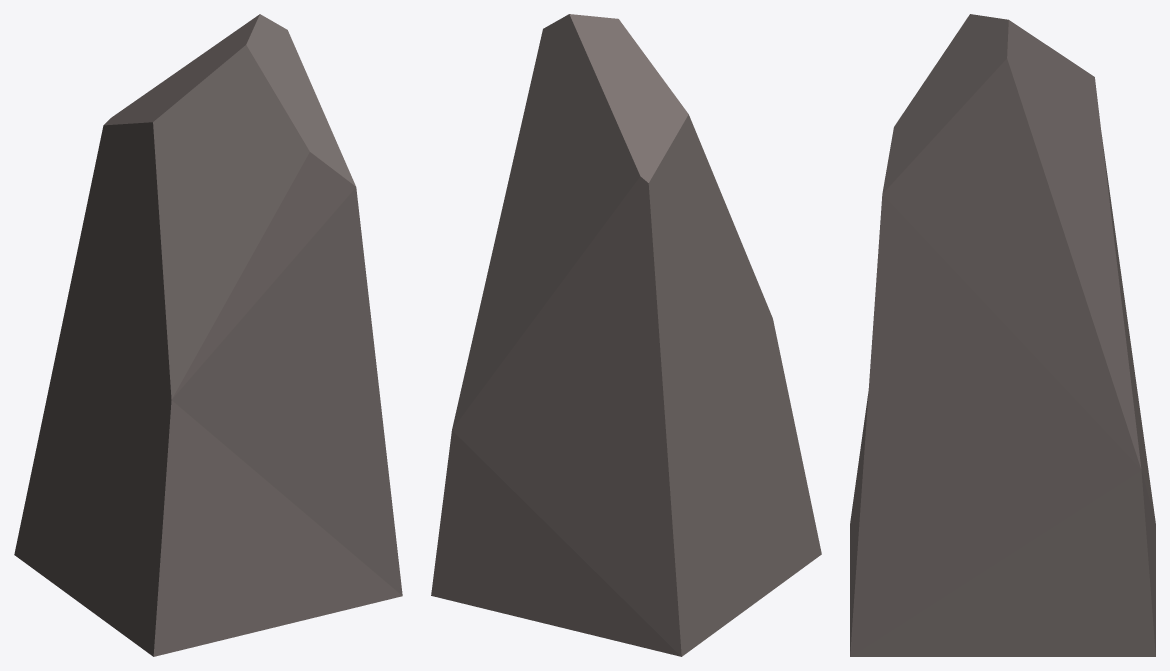
File: Rock_Sharp_s_05.fbx
3 renders of one model, left to right at view 1: azimuth 30°, elevation 25°; view 2: azimuth 150°, elevation 25°; view 3: azimuth 270°, elevation 25°, orthographic. The views are drawn at different scales.
Parts seen in each view (by area): view 1: Rock_Sharp_s_05; view 2: Rock_Sharp_s_05; view 3: Rock_Sharp_s_05.
Part boxes in pixels (x1,y1,x2,y2): Rock_Sharp_s_05: [14, 14, 402, 656]; Rock_Sharp_s_05: [431, 14, 821, 656]; Rock_Sharp_s_05: [850, 14, 1155, 656].
Bounding box in the file's own units: 33.24 × 69.66 × 32.2.
